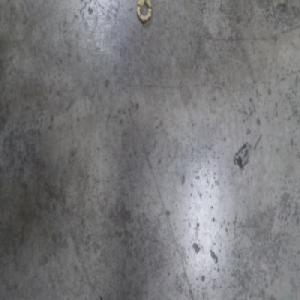Nut: (136, 0, 153, 27)
